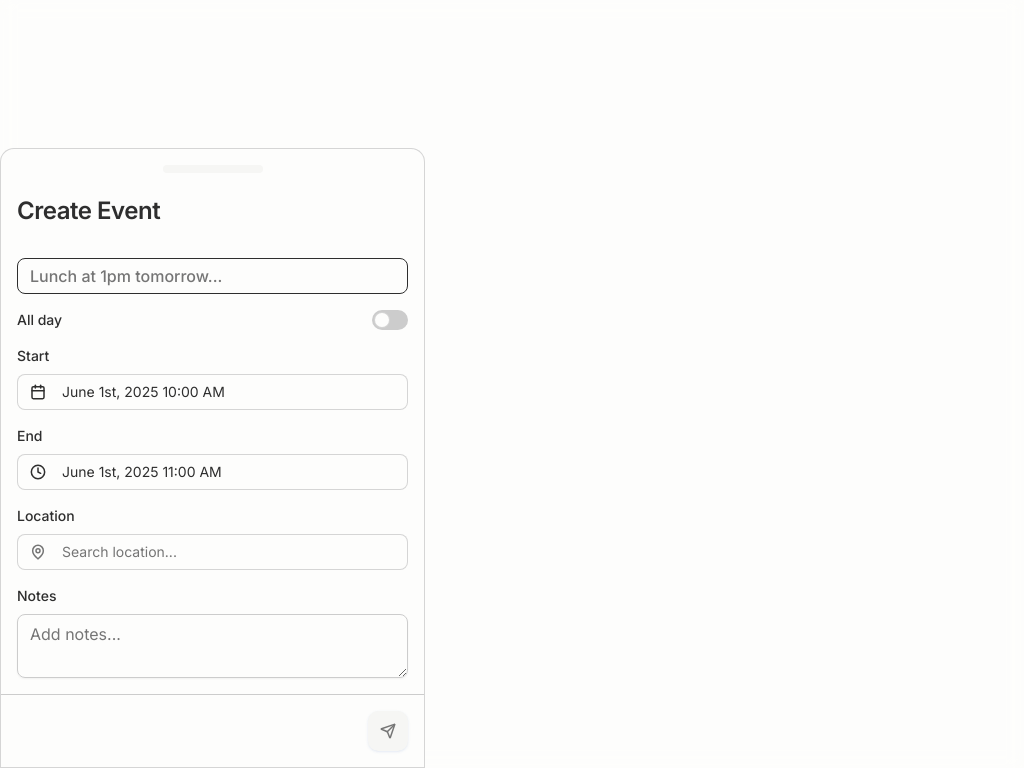
Scenario: CreateEventDialog — button activation (create mode) › [P2] submit button becomes enabled after typing a valid title
The image size is (1024, 768).
Check: the button named "create event" is disabled, box [368, 711, 408, 751]
In the field with placeholder "Lunch at 1pm tomorrow...": point(212, 276) [17, 258, 408, 294], type "Team Meeting"
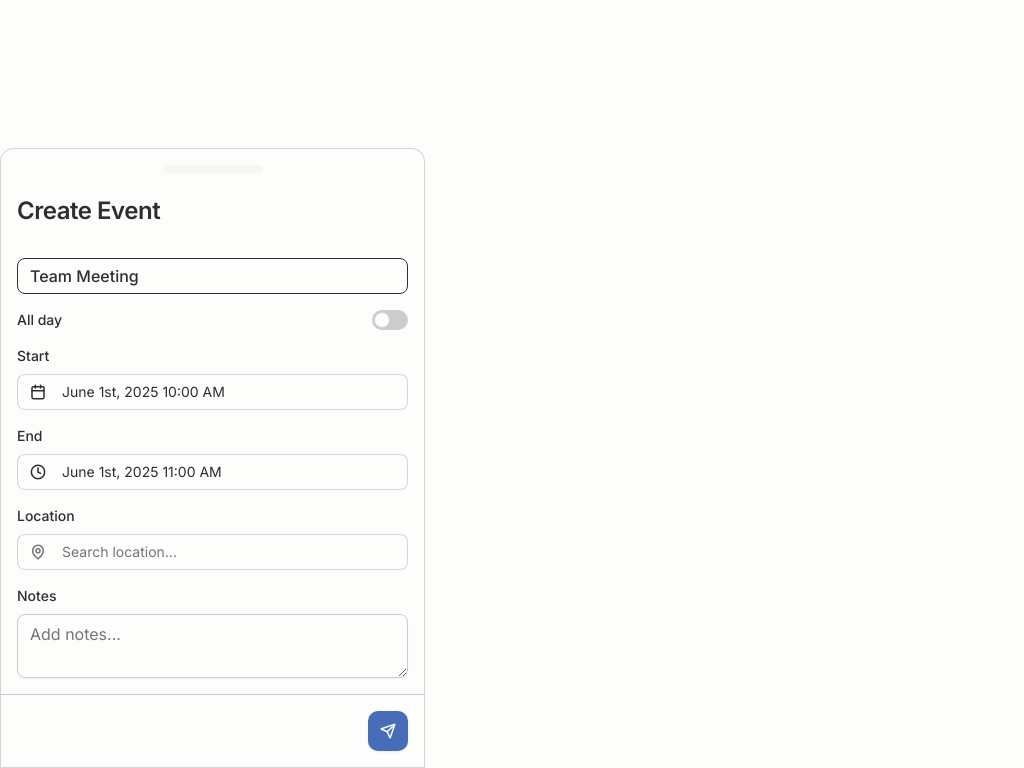
Check: the button named "create event" is enabled, box [368, 711, 408, 751]
